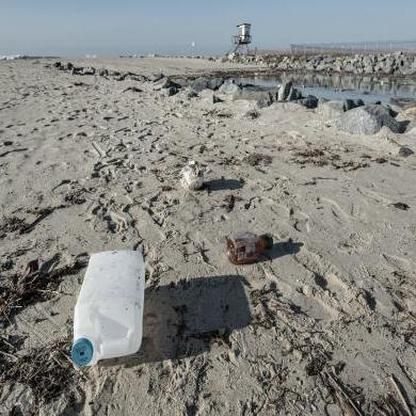plastic bottle: (71, 250, 144, 366)
